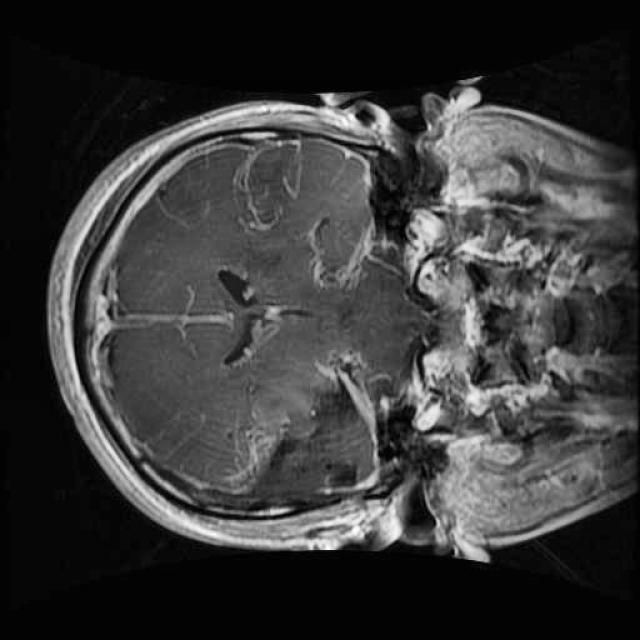Non-Tumor: (220, 351, 396, 529)
